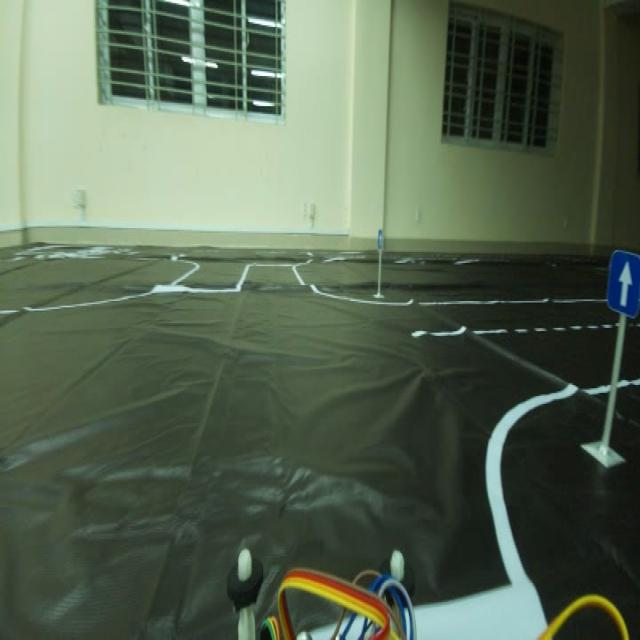onewayroad: (609, 254, 640, 313), (376, 225, 384, 252)
